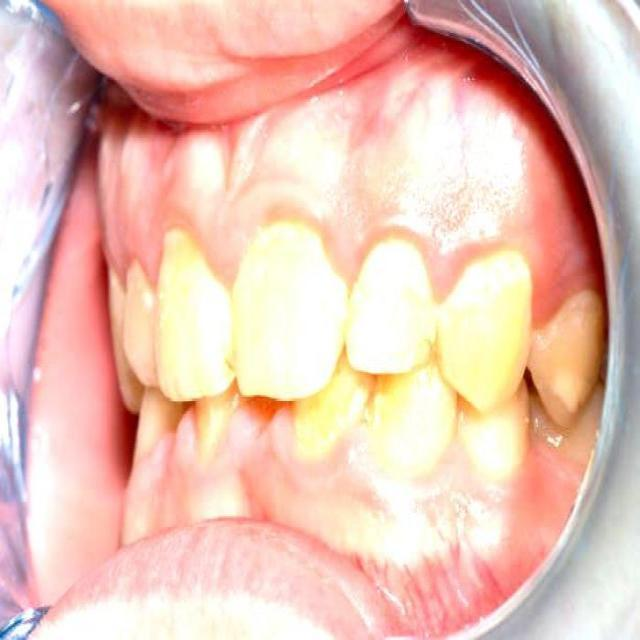CALCULUS: (311, 387, 369, 449)
